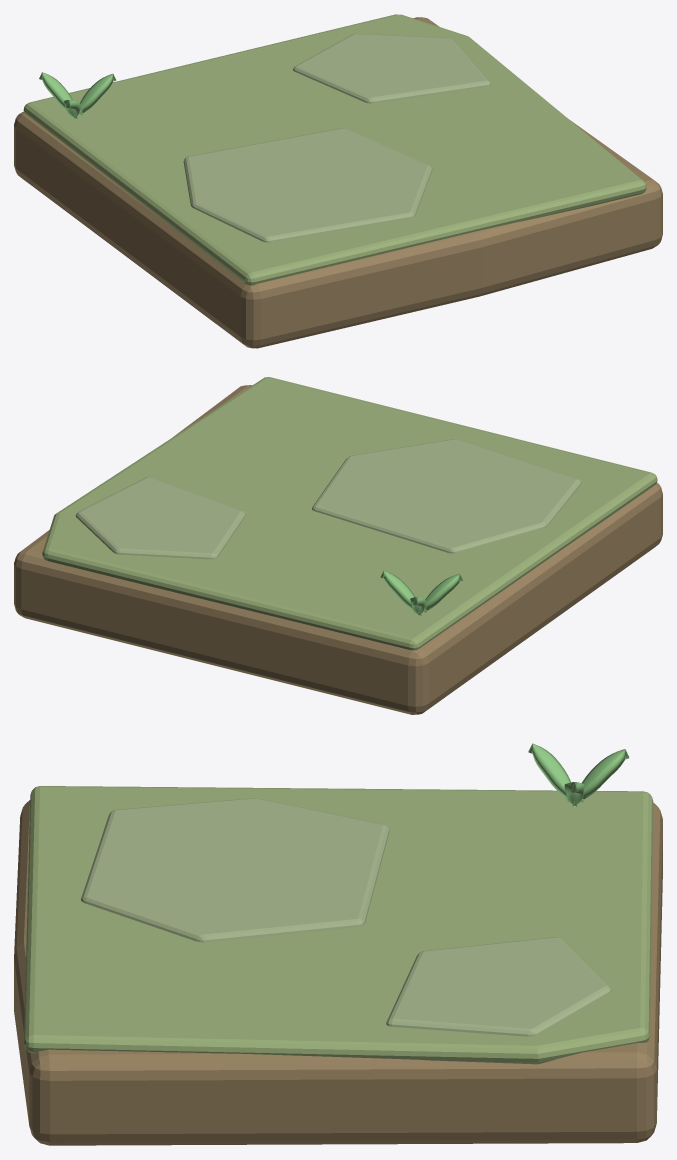
Rendered from rainforest_tile.glb.
3 views of the same model, one above another, from view 1: azimuth 30°, elevation 25°; view 2: azimuth 150°, elevation 25°; view 3: azimuth 270°, elevation 25° (orthographic). The views are drawn at different scales.
Parts seen in each view (by area): view 1: Batched V2 rainforest ground, Batched V2 rainforest warm ochre soil, Batched V2 rainforest stone_light, Batched V2 rainforest leaf_light; view 2: Batched V2 rainforest ground, Batched V2 rainforest warm ochre soil, Batched V2 rainforest stone_light, Batched V2 rainforest leaf_light; view 3: Batched V2 rainforest ground, Batched V2 rainforest warm ochre soil, Batched V2 rainforest stone_light, Batched V2 rainforest leaf_light.
Part boxes in pixels (<box>): Batched V2 rainforest ground: <box>23,14,646,285</box>; Batched V2 rainforest warm ochre soil: <box>14,17,662,348</box>; Batched V2 rainforest stone_light: <box>183,33,491,242</box>; Batched V2 rainforest leaf_light: <box>39,72,116,118</box>; Batched V2 rainforest ground: <box>42,377,657,650</box>; Batched V2 rainforest warm ochre soil: <box>14,385,662,714</box>; Batched V2 rainforest stone_light: <box>76,439,581,559</box>; Batched V2 rainforest leaf_light: <box>380,570,462,615</box>; Batched V2 rainforest ground: <box>24,786,653,1064</box>; Batched V2 rainforest warm ochre soil: <box>14,800,662,1145</box>; Batched V2 rainforest stone_light: <box>81,798,611,1036</box>; Batched V2 rainforest leaf_light: <box>528,743,629,806</box>.
Bounding box in the file's own units: 1.97 × 0.49 × 1.98.
